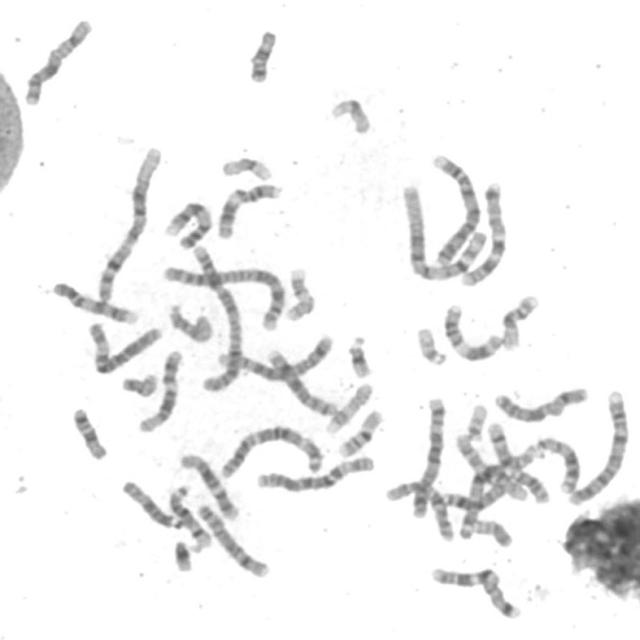A1: (92, 140, 166, 303), (398, 179, 494, 283)
A2: (160, 260, 290, 332), (186, 240, 246, 395)
A3: (458, 464, 548, 543), (215, 420, 328, 481)
B4: (565, 385, 633, 507), (428, 148, 484, 270)
B5: (200, 329, 338, 387), (407, 392, 449, 521)
C10: (452, 430, 535, 504), (382, 475, 458, 543)
C11: (215, 177, 285, 241), (440, 298, 507, 364)
C12: (176, 447, 242, 522), (135, 345, 186, 434)
C6: (254, 450, 379, 494), (84, 317, 166, 376)
C7: (457, 176, 512, 288), (426, 562, 525, 622)
C8: (194, 499, 273, 580), (262, 344, 342, 418)
C9: (48, 278, 141, 326), (161, 196, 216, 252)
D13: (532, 432, 584, 495), (438, 484, 510, 511)
D14: (165, 481, 214, 551), (483, 417, 538, 472)
D15: (119, 476, 184, 532), (164, 298, 217, 344)
E16: (335, 404, 387, 459), (499, 289, 543, 352)
E17: (321, 378, 377, 436), (282, 263, 319, 323)
E18: (68, 403, 111, 461), (244, 24, 280, 85)
F19: (327, 92, 375, 136), (218, 150, 276, 182)
F20: (464, 519, 516, 543), (116, 371, 159, 396)
G21: (344, 330, 376, 380), (169, 535, 196, 573)
G22: (413, 322, 451, 368), (462, 398, 490, 443)
X: (19, 13, 96, 107), (490, 381, 592, 424)
